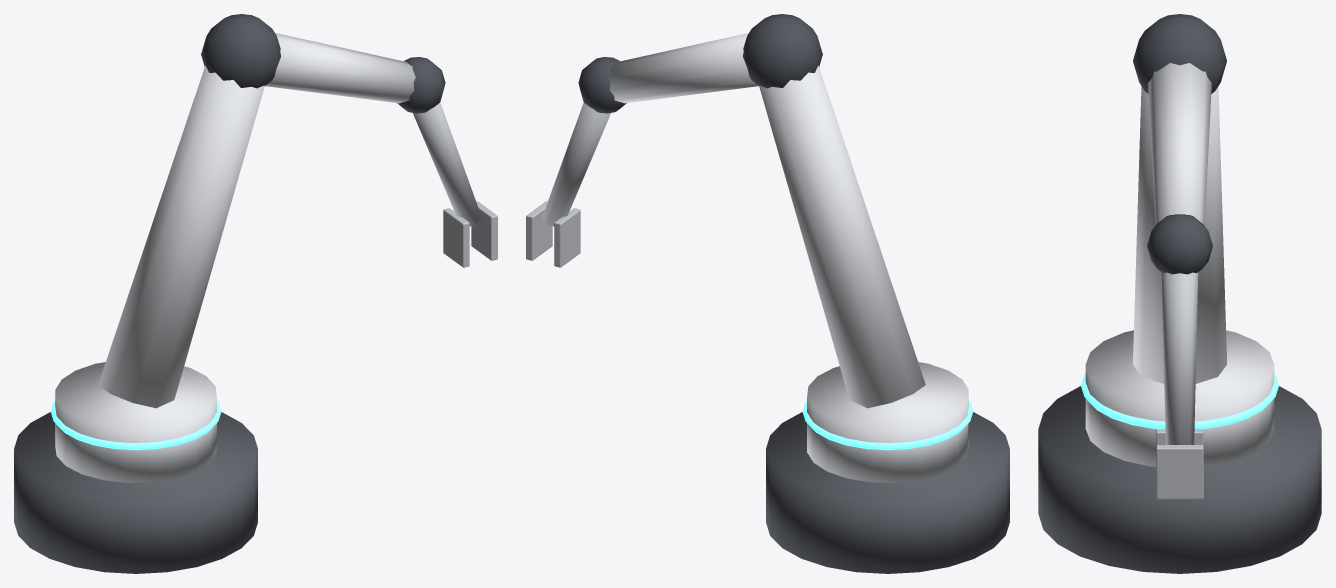
File: robot_arm_ceiling_rail.glb
The picture shows the model from 3 angles, left to right: view 1: azimuth 30°, elevation 25°; view 2: azimuth 150°, elevation 25°; view 3: azimuth 270°, elevation 25°; orthographic projection. The views are drawn at different scales.
Parts seen in each view (by area): view 1: GD_robot_arm_ceiling_rail__m1, GD_robot_arm_ceiling_rail__m0, GD_robot_arm_ceiling_rail__m2, GD_robot_arm_ceiling_rail__m3, GD_robot_arm_ceiling_rail__m4; view 2: GD_robot_arm_ceiling_rail__m1, GD_robot_arm_ceiling_rail__m0, GD_robot_arm_ceiling_rail__m2, GD_robot_arm_ceiling_rail__m3, GD_robot_arm_ceiling_rail__m4; view 3: GD_robot_arm_ceiling_rail__m1, GD_robot_arm_ceiling_rail__m0, GD_robot_arm_ceiling_rail__m3, GD_robot_arm_ceiling_rail__m2, GD_robot_arm_ceiling_rail__m4.
Boxes of the visible parts, <box> form: GD_robot_arm_ceiling_rail__m1: <box>55,33,415,482</box>; GD_robot_arm_ceiling_rail__m0: <box>14,412,257,573</box>; GD_robot_arm_ceiling_rail__m2: <box>201,14,445,113</box>; GD_robot_arm_ceiling_rail__m3: <box>413,102,497,267</box>; GD_robot_arm_ceiling_rail__m4: <box>50,401,221,450</box>; GD_robot_arm_ceiling_rail__m1: <box>608,33,968,482</box>; GD_robot_arm_ceiling_rail__m0: <box>766,412,1009,573</box>; GD_robot_arm_ceiling_rail__m2: <box>578,14,822,113</box>; GD_robot_arm_ceiling_rail__m3: <box>526,102,610,267</box>; GD_robot_arm_ceiling_rail__m4: <box>802,401,973,450</box>; GD_robot_arm_ceiling_rail__m1: <box>1085,63,1274,466</box>; GD_robot_arm_ceiling_rail__m0: <box>1038,386,1321,573</box>; GD_robot_arm_ceiling_rail__m3: <box>1156,272,1203,499</box>; GD_robot_arm_ceiling_rail__m2: <box>1133,14,1226,274</box>; GD_robot_arm_ceiling_rail__m4: <box>1081,374,1278,429</box>.
Size of the model in its own units: 1.3 by 1.3 by 0.6.
